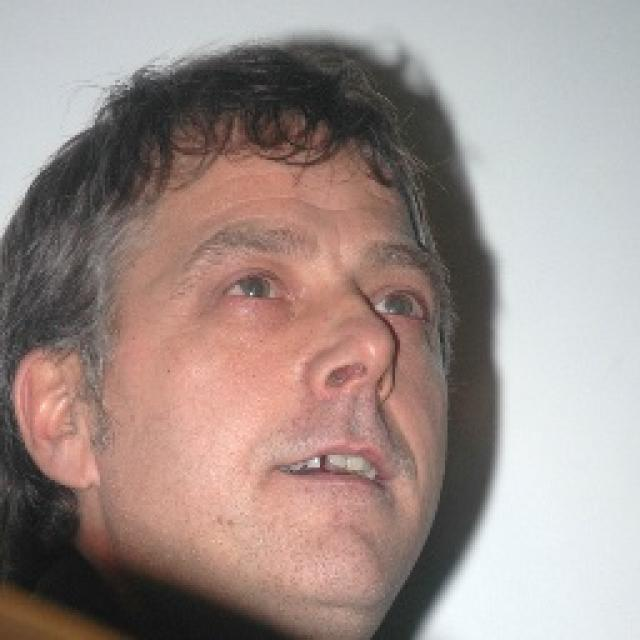earlobe: (51, 433, 101, 493)
eye: (218, 272, 289, 304), (369, 286, 429, 323)
nose: (314, 358, 402, 438)
wholeear: (12, 345, 101, 492)
